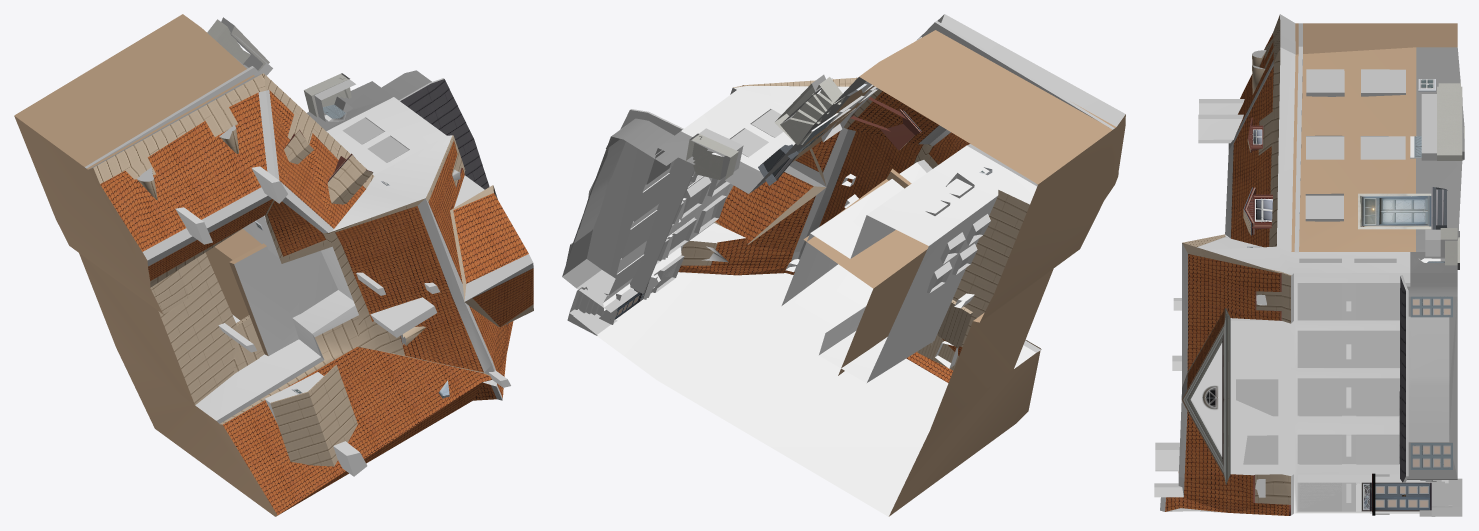
File: Voorimehe_1-origo.obj
3 renders of one model, left to right at view 1: azimuth 30°, elevation 25°; view 2: azimuth 150°, elevation 25°; view 3: azimuth 270°, elevation 25°, orthographic. The views are drawn at different scales.
Visible parts, largest first — view 1: Voorimehe_1; view 2: Voorimehe_1; view 3: Voorimehe_1.
Part boxes in pixels (x1,y1,x2,y2): Voorimehe_1: (14, 14, 533, 516); Voorimehe_1: (562, 14, 1125, 516); Voorimehe_1: (1154, 14, 1464, 516).
Size of the model in its own units: 31.94 by 27 by 16.95.
